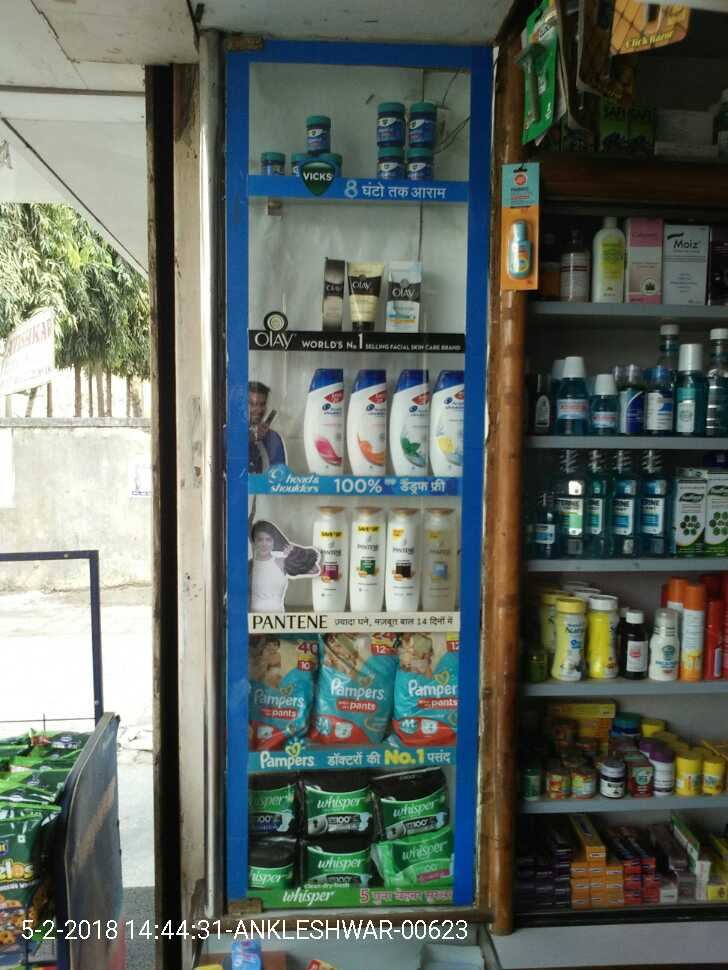beauty: (295, 367, 343, 473), (425, 365, 470, 477), (385, 372, 426, 483), (419, 506, 460, 615), (345, 502, 382, 619), (347, 368, 388, 473), (309, 509, 348, 617), (382, 502, 420, 611), (385, 258, 422, 331), (317, 252, 344, 329), (348, 257, 377, 326)
pharmacy: (309, 632, 398, 747), (389, 637, 462, 752), (248, 635, 315, 745), (374, 766, 457, 840), (375, 833, 462, 891), (308, 778, 374, 834), (249, 772, 298, 837), (247, 839, 298, 890), (311, 847, 368, 883), (397, 144, 438, 187), (300, 112, 338, 152), (408, 101, 440, 144), (377, 105, 406, 146), (368, 143, 399, 178)
